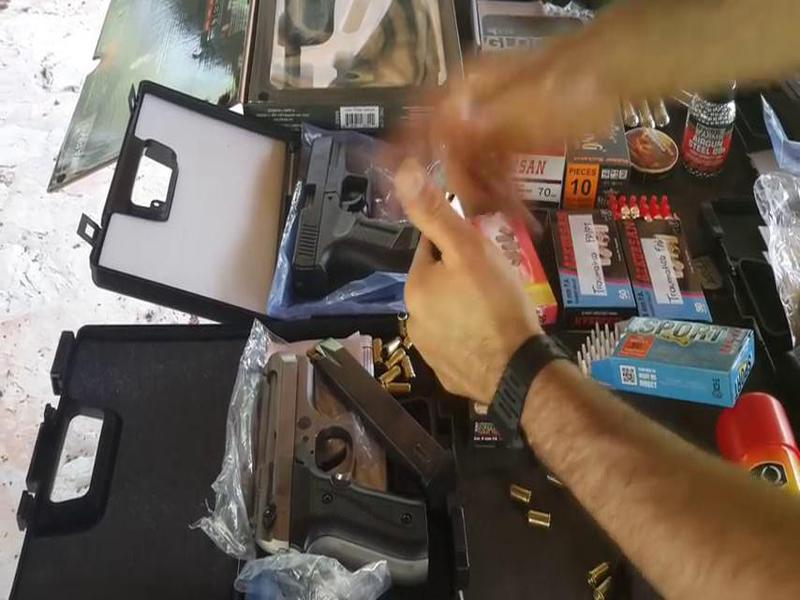Pistola: (246, 323, 439, 592), (264, 122, 436, 294)
